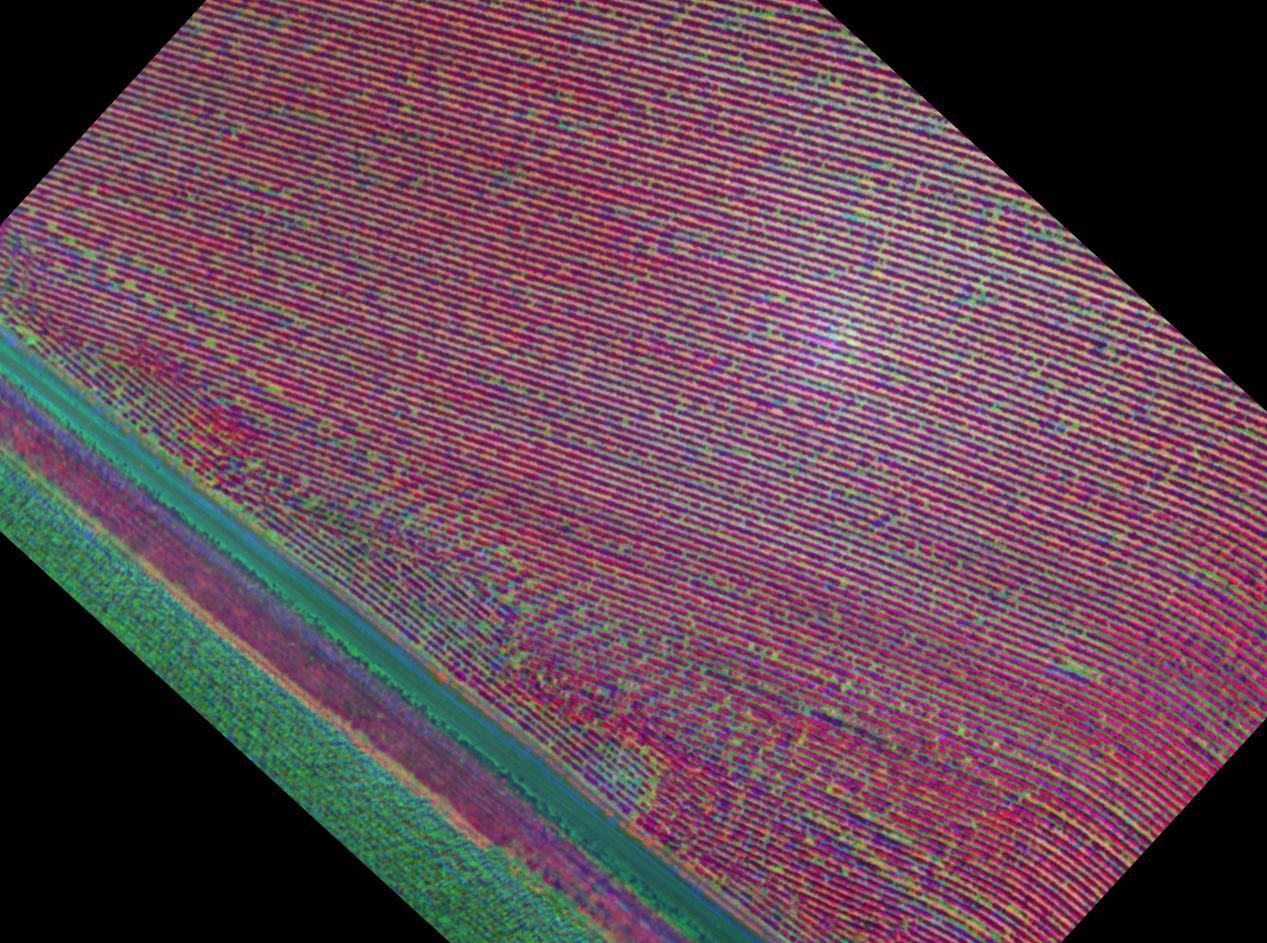dc: (272, 387, 276, 392), (772, 655, 777, 659), (272, 532, 276, 536), (1025, 205, 1029, 208), (50, 224, 54, 227), (969, 300, 972, 304), (30, 339, 34, 342), (892, 520, 895, 524), (530, 703, 533, 707), (128, 283, 131, 286)
